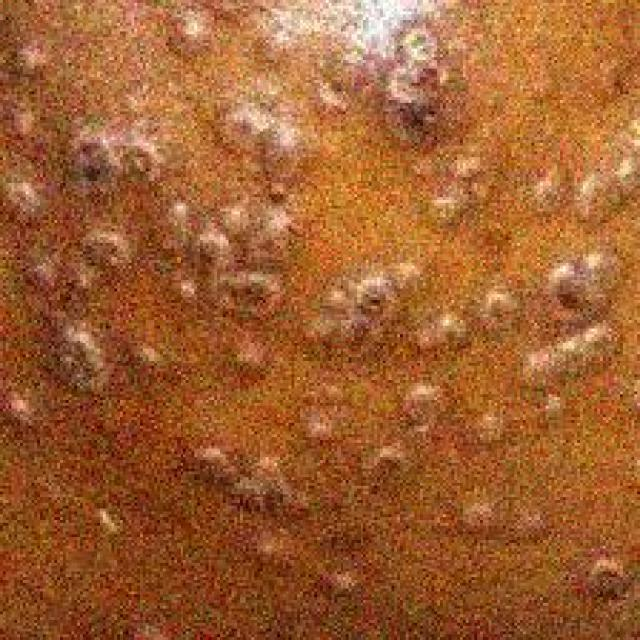monkeypox: (17, 12, 636, 640)
